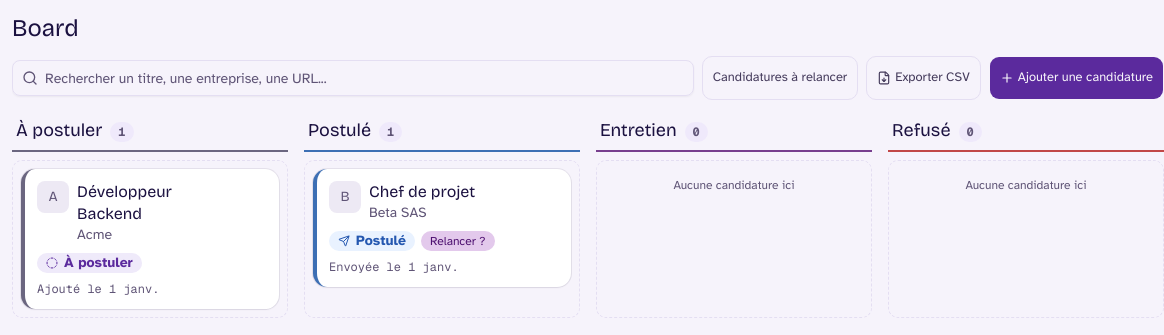
Test: Board search › filters cards by title/company/url as the user types
Check: the text "Développeur Backend" is shown, box [77,182,172,223]
Check: the text "Chef de projet" is shown, box [369,181,491,203]
In the field with placeholder "Rechercher un titre, une entreprise, une URL...": (353, 78) [12,60,694,96], type "backend"
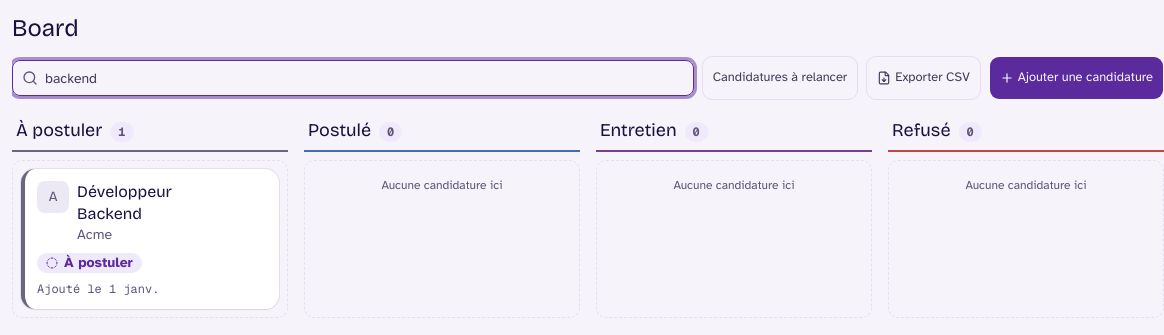
Check: the text "Développeur Backend" is shown, box [77,182,172,223]
Check: the button "Chef de projet" is gone
